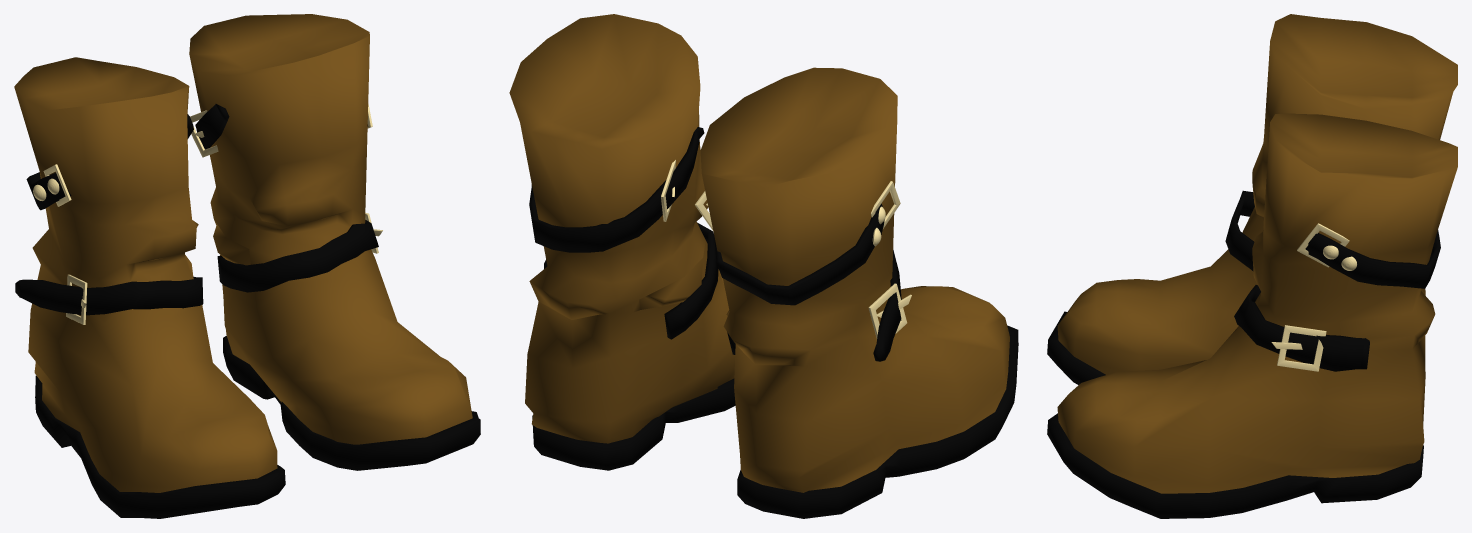
File: Boots (1).fbx
3 views of the same model, side by side, from view 1: azimuth 30°, elevation 25°; view 2: azimuth 150°, elevation 25°; view 3: azimuth 270°, elevation 25° (orthographic). The views are drawn at different scales.
Visible parts, largest first — view 1: polySurface46; view 2: polySurface46; view 3: polySurface46.
Part boxes in pixels (x1=…): polySurface46: x1=14, y1=14, x2=480, y2=518; polySurface46: x1=509, y1=14, x2=1018, y2=518; polySurface46: x1=1047, y1=14, x2=1457, y2=518.
Bounding box in the file's own units: 3.13 × 3.24 × 3.13.
